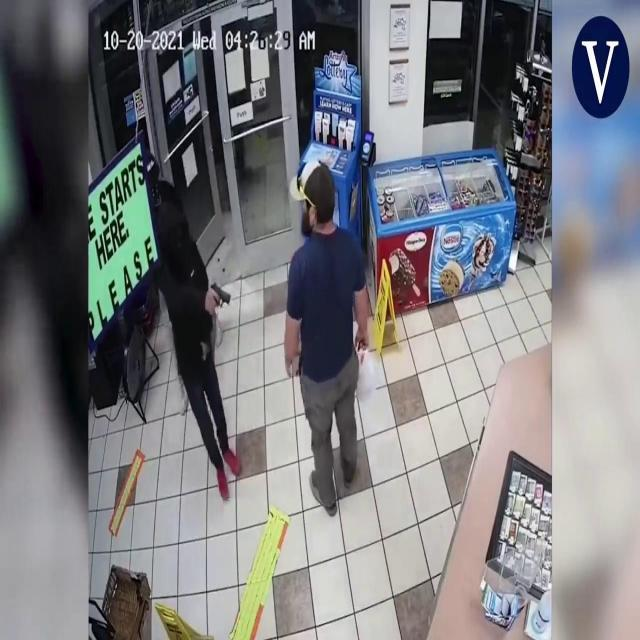weapon: (201, 271, 236, 324)
